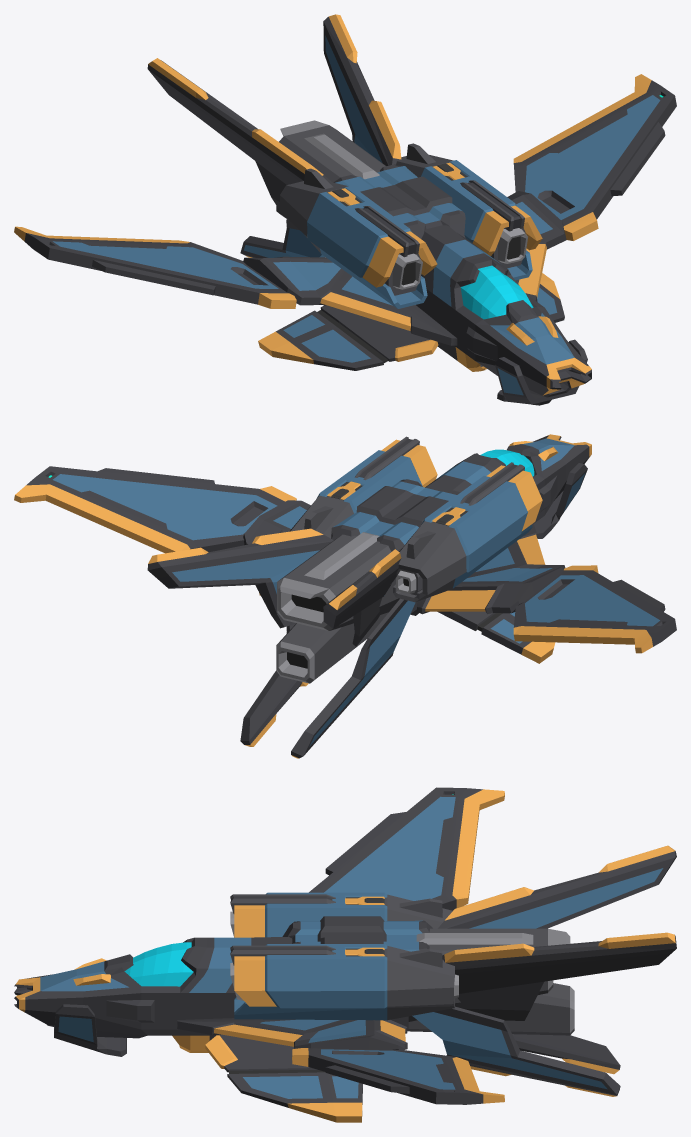
The model's file is fighter.glb.
3 views of the same model, one above another, from view 1: azimuth 30°, elevation 25°; view 2: azimuth 150°, elevation 25°; view 3: azimuth 270°, elevation 25° (orthographic).
Parts seen in each view (by area): view 1: SM_Ship_Fighter_02; view 2: SM_Ship_Fighter_02; view 3: SM_Ship_Fighter_02.
Part boxes in pixels (bbox=[...]): SM_Ship_Fighter_02: bbox=[14, 14, 676, 405]; SM_Ship_Fighter_02: bbox=[14, 434, 676, 758]; SM_Ship_Fighter_02: bbox=[14, 787, 676, 1122].
Size of the model in its own units: 15 by 4.48 by 13.71.
1 material, 1 textured.
